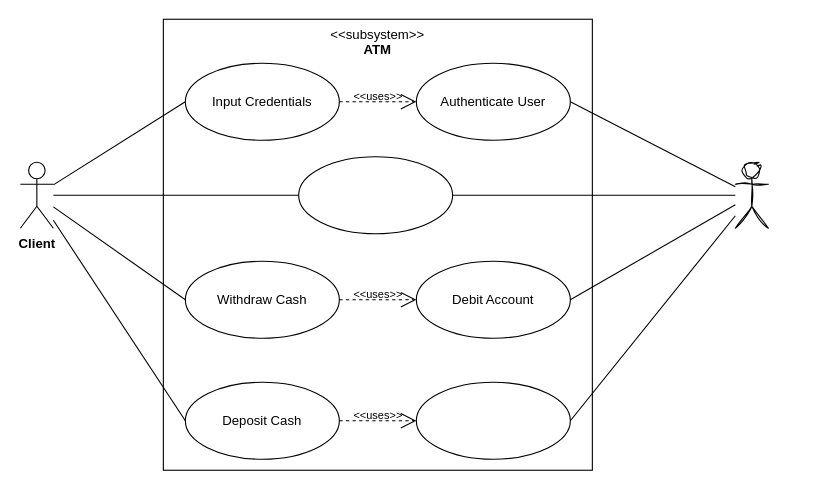
Some shapes in this 818 by 490 pixel diagram are drawn without their labels. The centre of each missing label's shape, as x and y in pixels:
<<component>> BankDatabase: the point at 751,194
Check Balances: the point at 375,195
Credit Account: the point at 492,420
